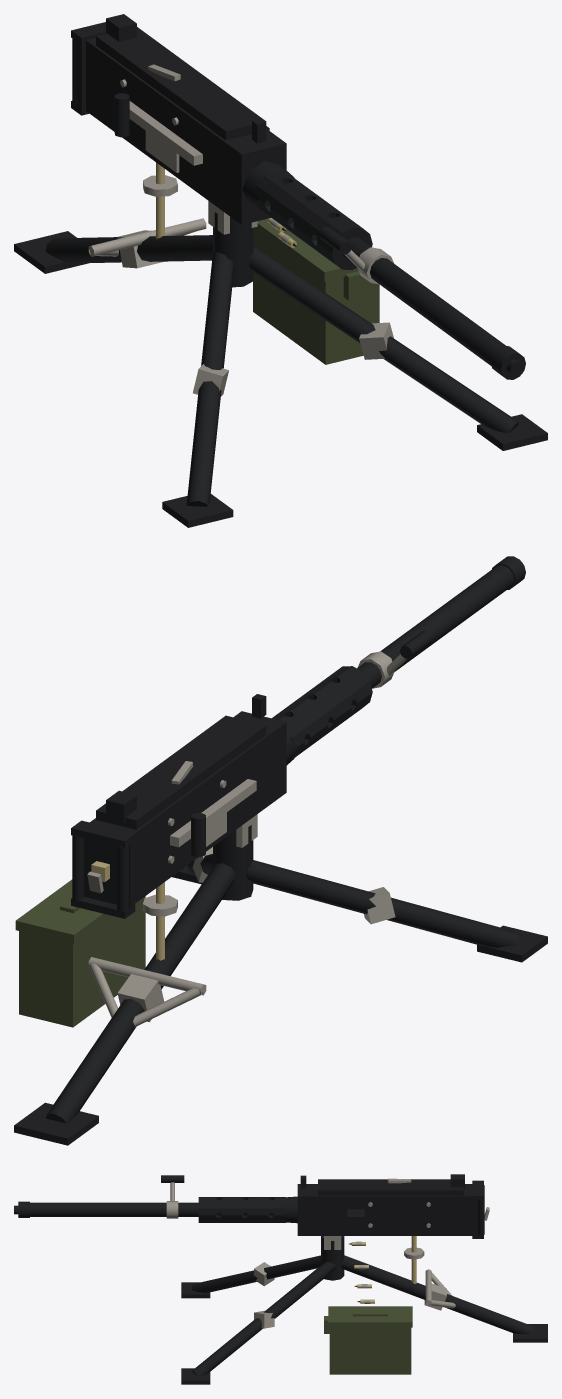
Rendered from m2-browning-2.glb.
The picture shows the model from 3 angles, top to bottom: view 1: azimuth 30°, elevation 25°; view 2: azimuth 150°, elevation 25°; view 3: azimuth 270°, elevation 25°; orthographic projection. The views are drawn at different scales.
Parts seen in each view (by area): view 1: Mesh_Receiver, Mesh_FrontLegL, Mesh_AmmoCanBody, Mesh_TopCover, Mesh_FrontLegR, Mesh_Jacket, Mesh_Barrel, Mesh_RearLeg, Mesh_TripodHub, Mesh_AmmoCanLid, Mesh_FootR, Mesh_ChargingSlide (+11 smaller); view 2: Mesh_Receiver, Mesh_AmmoCanBody, Mesh_RearLeg, Mesh_TopCover, Mesh_FrontLegR, Mesh_Jacket, Mesh_Barrel, Mesh_AmmoCanLid, Mesh_SpadeRearPlate, Mesh_FootRear, Mesh_TripodHub, Mesh_ChargingSlide (+9 smaller); view 3: Mesh_Receiver, Mesh_AmmoCanBody, Mesh_Barrel, Mesh_RearLeg, Mesh_TopCover, Mesh_Jacket, Mesh_FrontLegL, Mesh_AmmoCanLid, Mesh_FrontLegR, Mesh_TripodHub, Mesh_FootRear, Mesh_FootL (+5 smaller).
Boxes of the visible parts, x1,y1,x2,y2 form: Mesh_Receiver: (86,38,286,224); Mesh_FrontLegL: (249,245,518,432); Mesh_AmmoCanBody: (253,230,379,364); Mesh_TopCover: (96,27,266,140); Mesh_FrontLegR: (186,252,233,506); Mesh_Jacket: (255,171,372,269); Mesh_Barrel: (342,237,505,365); Mesh_RearLeg: (46,235,212,263); Mesh_TripodHub: (213,212,253,287); Mesh_AmmoCanLid: (253,219,358,281); Mesh_FootR: (162,494,233,527); Mesh_ChargingSlide: (129,101,202,165); Mesh_Receiver: (90,711,286,902); Mesh_AmmoCanBody: (19,896,145,1027); Mesh_RearLeg: (45,863,236,1123); Mesh_TopCover: (96,715,266,829); Mesh_FrontLegR: (245,860,518,947); Mesh_Jacket: (272,666,372,759); Mesh_Barrel: (357,565,514,688); Mesh_AmmoCanLid: (15,879,112,944); Mesh_SpadeRearPlate: (84,836,135,913); Mesh_FootRear: (14,1102,98,1145); Mesh_TripodHub: (213,825,253,900); Mesh_ChargingSlide: (170,779,256,847); Mesh_Receiver: (297,1184,472,1235); Mesh_AmmoCanBody: (329,1327,411,1374); Mesh_Barrel: (30,1202,274,1216); Mesh_RearLeg: (341,1255,533,1334); Mesh_TopCover: (318,1179,463,1195); Mesh_Jacket: (198,1197,285,1222); Mesh_FrontLegL: (191,1262,336,1376); Mesh_AmmoCanLid: (328,1306,412,1327); Mesh_FrontLegR: (191,1255,320,1293); Mesh_TripodHub: (321,1236,344,1280); Mesh_FootRear: (513,1324,547,1342); Mesh_FootL: (181,1368,210,1384).
Bounding box in the file's own units: 0.8 × 0.6131 × 1.84.
